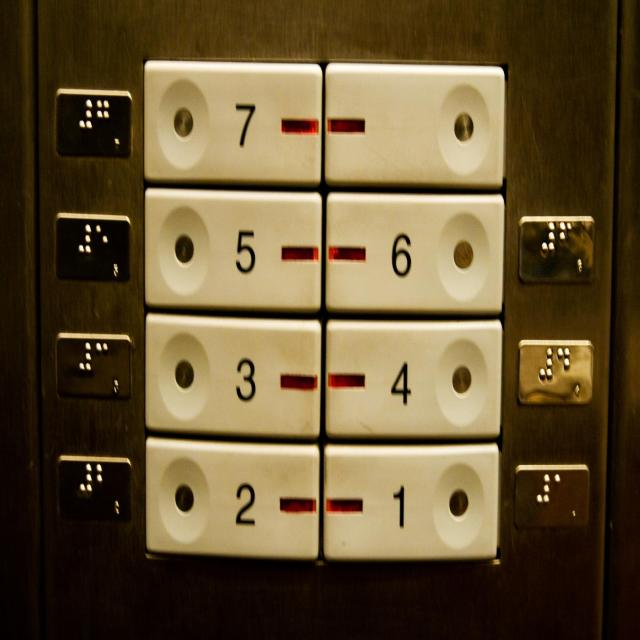1: (319, 432, 507, 568)
2: (138, 430, 320, 566)
3: (138, 312, 322, 444)
4: (321, 312, 508, 449)
5: (137, 184, 320, 312)
6: (321, 192, 508, 322)
7: (138, 55, 320, 192)
empty: (320, 55, 511, 192)
